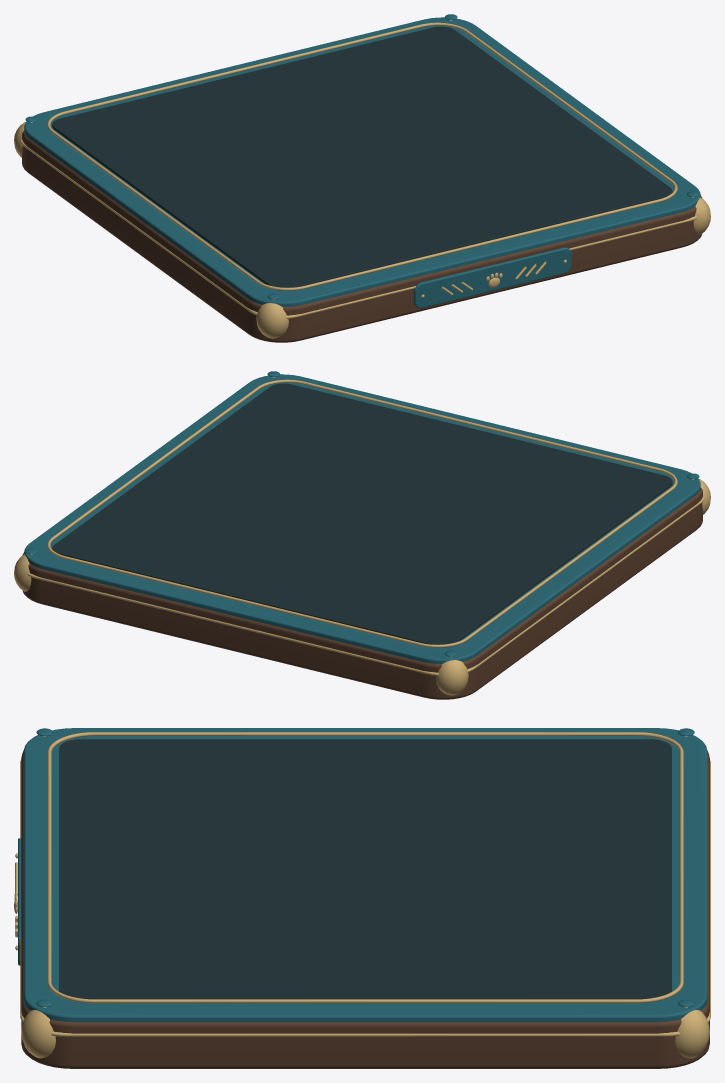
Rendered from echo_case_atelier.glb.
The picture shows the model from 3 angles, top to bottom: view 1: azimuth 30°, elevation 25°; view 2: azimuth 150°, elevation 25°; view 3: azimuth 270°, elevation 25°; orthographic projection. The views are drawn at different scales.
Visible parts, largest first — view 1: echo_case_atelier__TaggedPainted_echo_case_atelier_Matte, echo_case_atelier__Painted_echo_case_atelier_Glaze, echo_case_atelier__Painted_echo_case_atelier_Metal; view 2: echo_case_atelier__TaggedPainted_echo_case_atelier_Matte, echo_case_atelier__Painted_echo_case_atelier_Glaze, echo_case_atelier__Painted_echo_case_atelier_Metal; view 3: echo_case_atelier__TaggedPainted_echo_case_atelier_Matte, echo_case_atelier__Painted_echo_case_atelier_Glaze, echo_case_atelier__Painted_echo_case_atelier_Metal.
Boxes of the visible parts, x1,y1,x2,y2 form: echo_case_atelier__TaggedPainted_echo_case_atelier_Matte: (22, 26, 702, 342); echo_case_atelier__Painted_echo_case_atelier_Glaze: (24, 14, 700, 308); echo_case_atelier__Painted_echo_case_atelier_Metal: (14, 20, 710, 338); echo_case_atelier__TaggedPainted_echo_case_atelier_Matte: (22, 383, 702, 699); echo_case_atelier__Painted_echo_case_atelier_Glaze: (24, 371, 700, 663); echo_case_atelier__Painted_echo_case_atelier_Metal: (14, 377, 710, 695); echo_case_atelier__TaggedPainted_echo_case_atelier_Matte: (21, 739, 709, 1068); echo_case_atelier__Painted_echo_case_atelier_Glaze: (18, 728, 707, 1022); echo_case_atelier__Painted_echo_case_atelier_Metal: (14, 732, 710, 1058).
Size of the model in its own units: 8.18 by 0.882 by 8.26.
